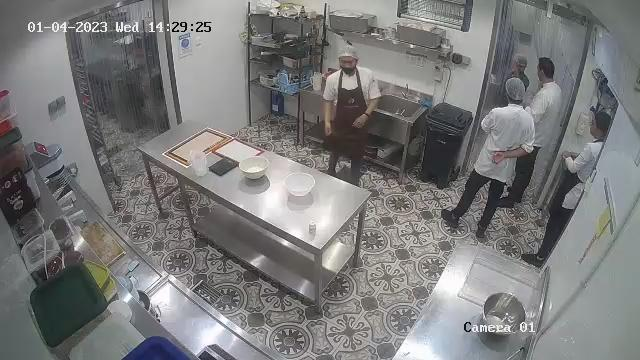apron: (327, 70, 368, 152)
